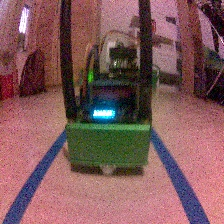rob: (64, 44, 152, 176)
